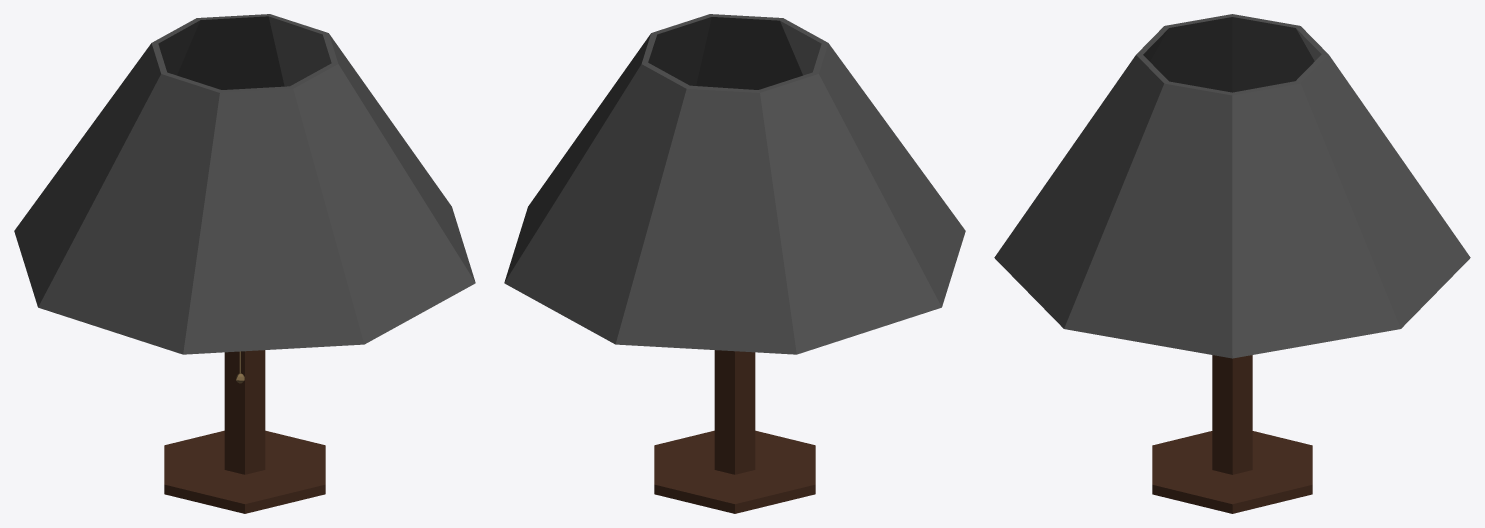
Rendered from abajur.fbx.
The picture shows the model from 3 angles, left to right: view 1: azimuth 30°, elevation 25°; view 2: azimuth 150°, elevation 25°; view 3: azimuth 270°, elevation 25°; orthographic projection.
Visible parts, largest first — view 1: üst, alt; view 2: üst, alt; view 3: üst, alt.
Part boxes in pixels (x1,y1,x2,y2): üst: [14, 14, 475, 354]; alt: [164, 350, 325, 513]; üst: [504, 14, 965, 354]; alt: [654, 350, 815, 513]; üst: [994, 14, 1470, 358]; alt: [1152, 355, 1312, 513].
Size of the model in its own units: 7.52 by 7.32 by 7.52.
